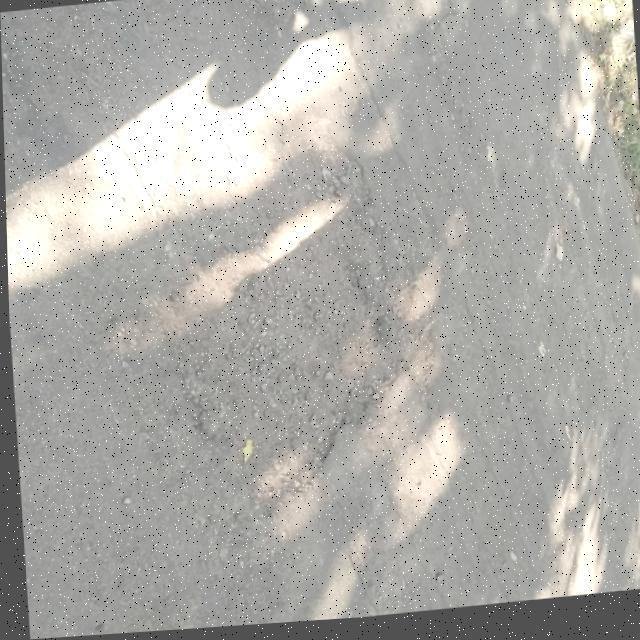pothole: (102, 146, 414, 550)
